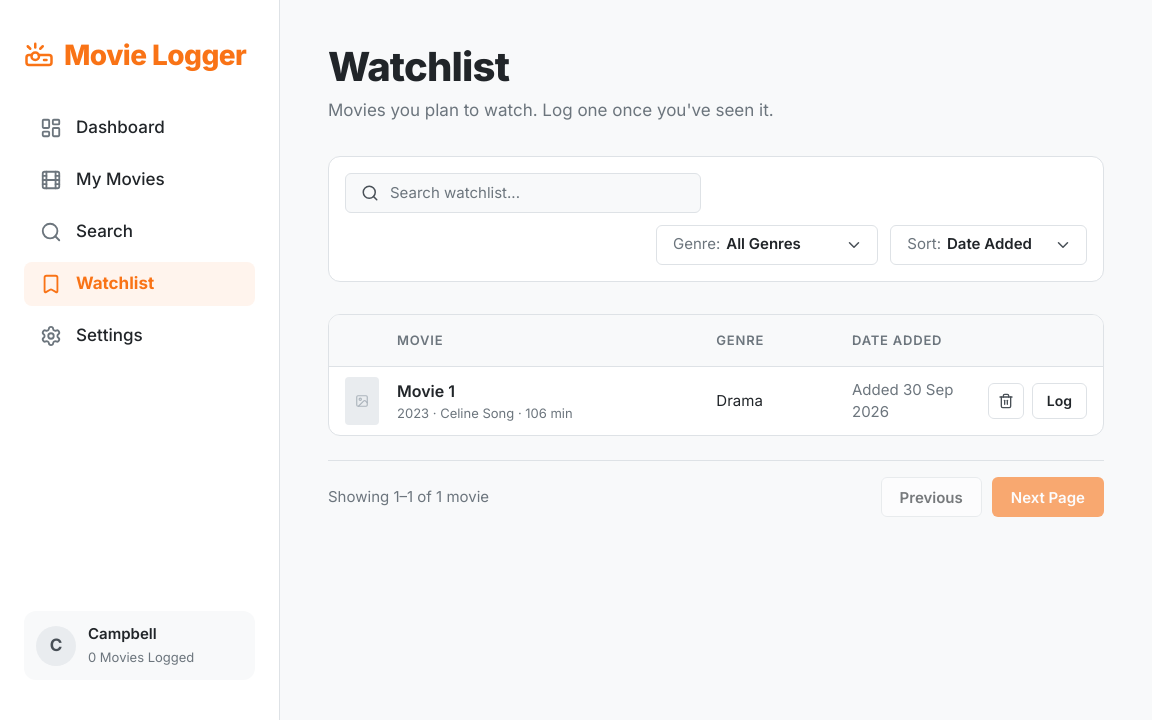
Test case: Watchlist page › treats removing an already-removed movie (404) as done and refreshes
This screenshot has width=1152, height=720.
What coordinates should you click on to do the following:
click the button named "Remove Movie 1 from watchlist"
I would click on:
 (1006, 401)
Its box is [988, 383, 1024, 419].
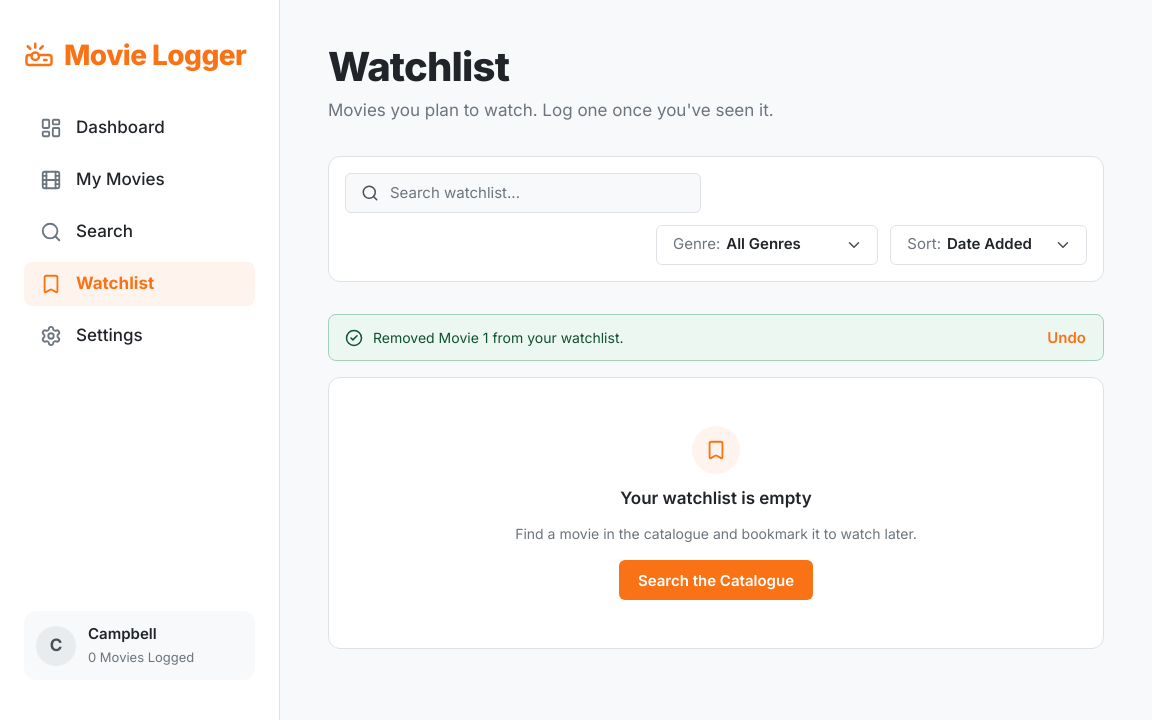
Expected: the text "Your watchlist is empty" is shown, [620, 486, 812, 511]
